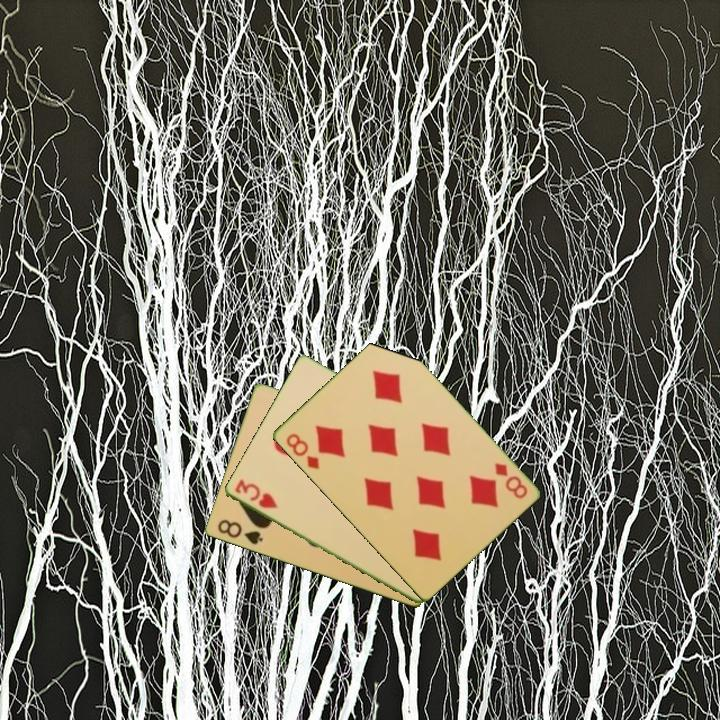3h: (230, 476, 280, 512)
8d: (490, 459, 530, 502), (282, 430, 322, 472)
8s: (214, 516, 266, 548)
